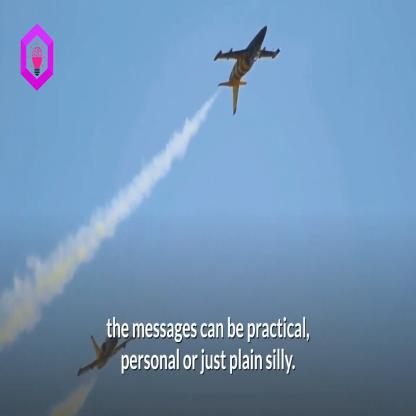plane: (216, 16, 292, 124)
